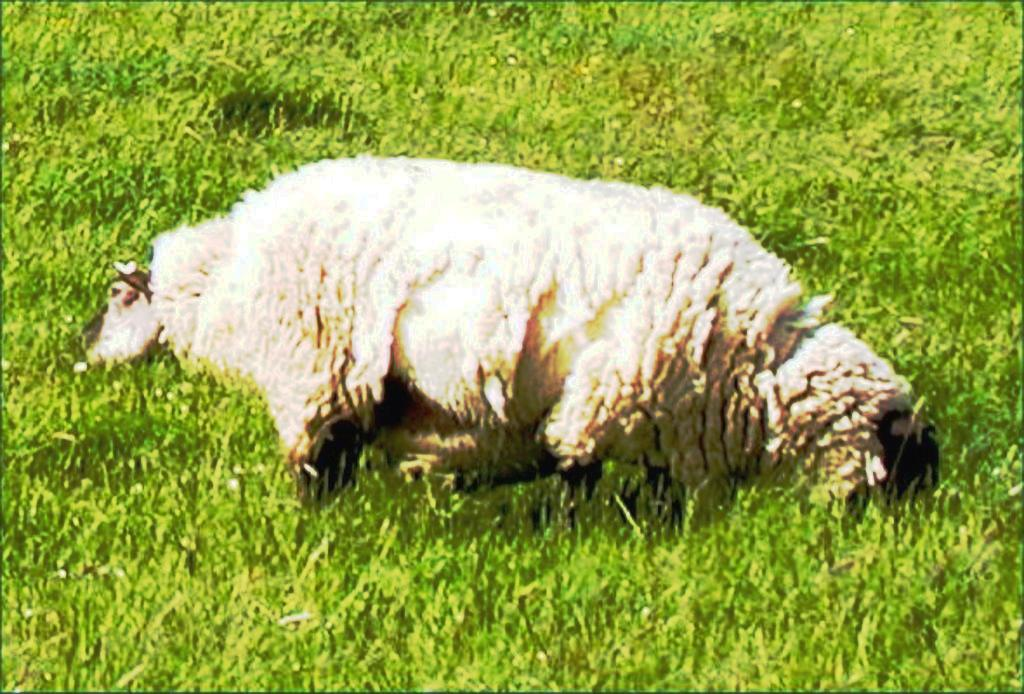Sheep: (90, 147, 948, 522)
